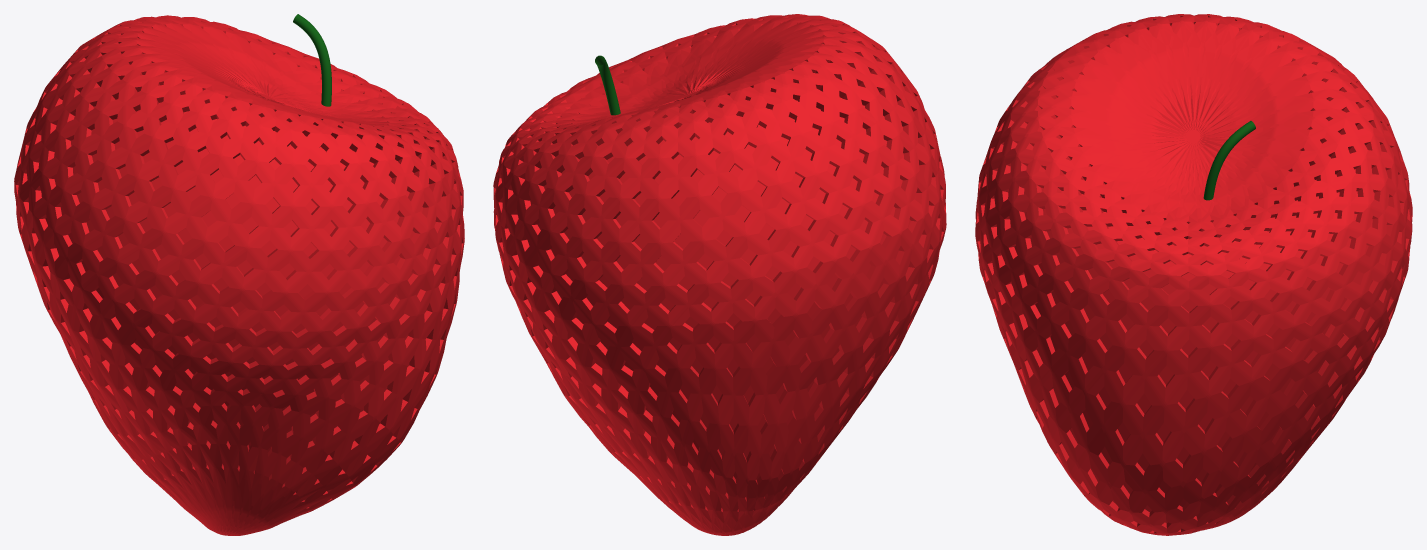
File: stroberi.glb
The picture shows the model from 3 angles, left to right: view 1: azimuth 30°, elevation 25°; view 2: azimuth 150°, elevation 25°; view 3: azimuth 270°, elevation 25°; orthographic projection. The views are drawn at different scales.
Parts seen in each view (by area): view 1: Sphere.001, NurbsPath; view 2: Sphere.001, NurbsPath; view 3: Sphere.001, NurbsPath.
Part boxes in pixels (x1,y1,x2,y2): Sphere.001: [14, 15, 464, 535]; NurbsPath: [293, 14, 331, 106]; Sphere.001: [493, 14, 946, 535]; NurbsPath: [595, 55, 620, 115]; Sphere.001: [975, 14, 1412, 535]; NurbsPath: [1203, 121, 1255, 200].
Bounding box in the file's own units: 0.8789 × 1.04 × 0.8822.
